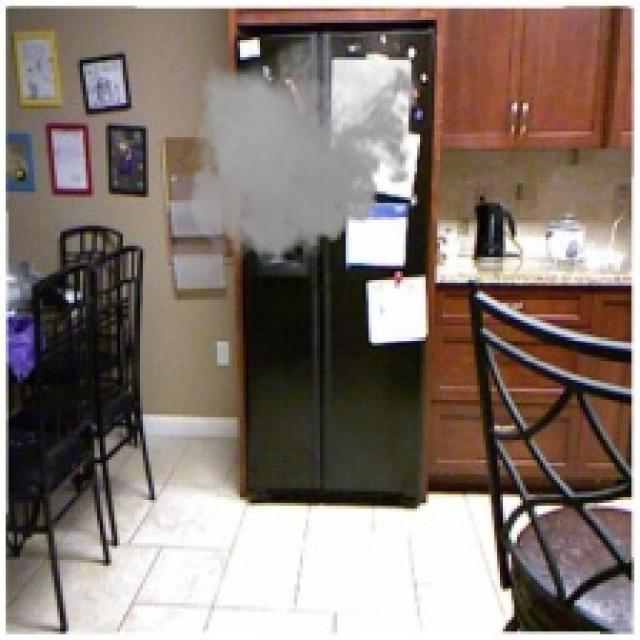Smoke: (180, 26, 426, 274)
